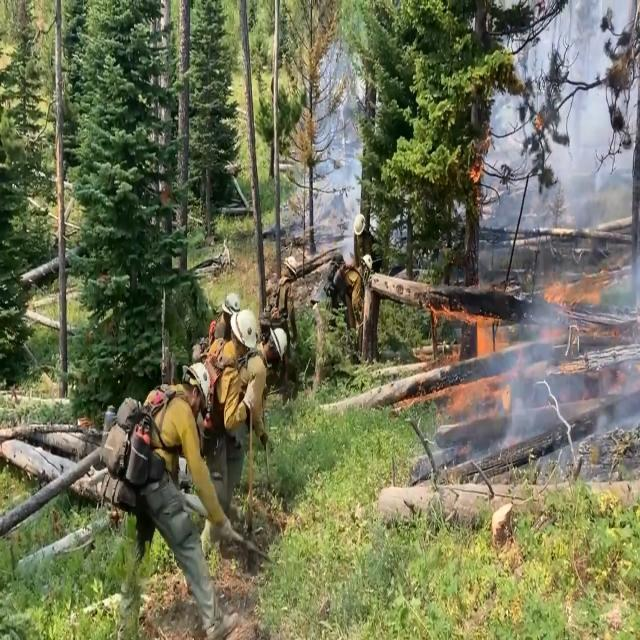Fire: (417, 277, 512, 412)
